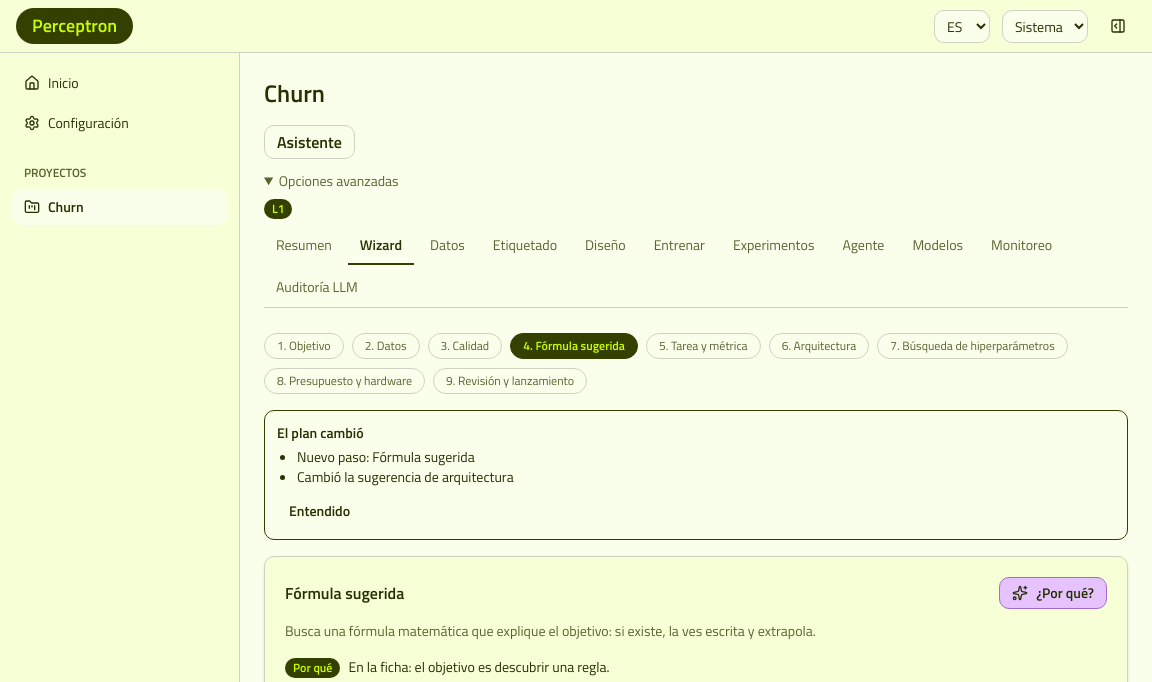
Test: wizard adaptativo, fase 2 › muestra los cambios del plan y el paso Fórmula con la búsqueda
Expected: the message "El plan cambió" shows "Nuevo paso: Fórmula sugerida", [297,446,475,467]
Expected: the message "El plan cambió" shows "Cambió la sugerencia de arquitectura", [297,466,514,487]
Click the button "Entendido".
click(320, 511)  # box [277,495,362,527]
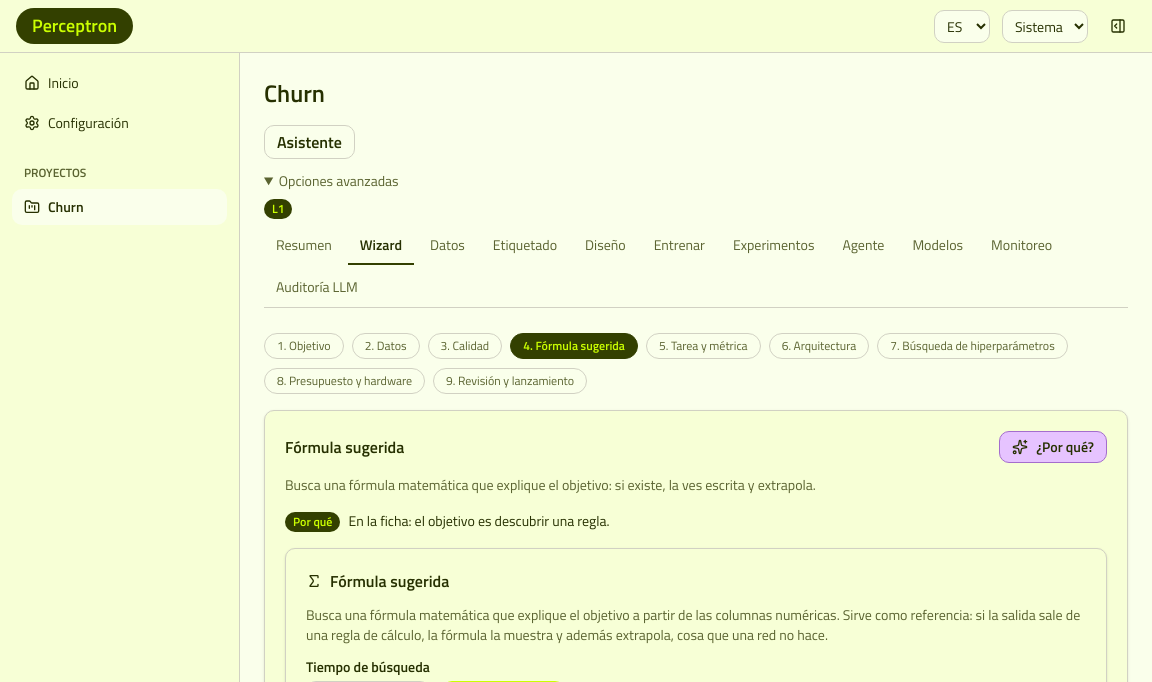
Now the text "El plan cambió" is gone
